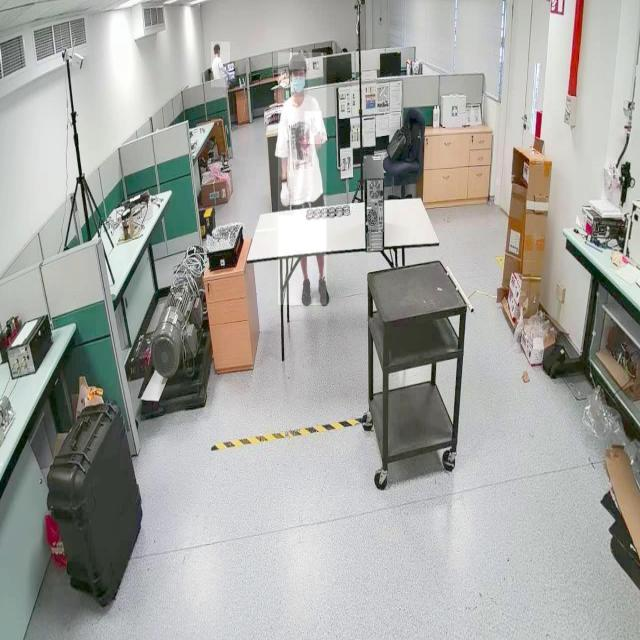face_mask: (288, 61, 308, 98)
hand_glove: (278, 177, 294, 216), (304, 111, 322, 144)
head_nohelmet: (289, 52, 307, 70), (213, 42, 220, 49)
person: (278, 52, 326, 306), (210, 42, 230, 88)
shoes: (317, 275, 331, 310), (299, 273, 312, 308)
